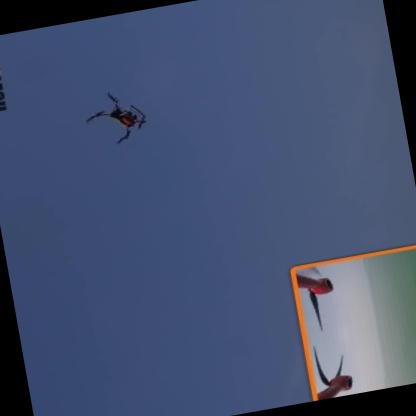drone: (80, 84, 159, 155)
